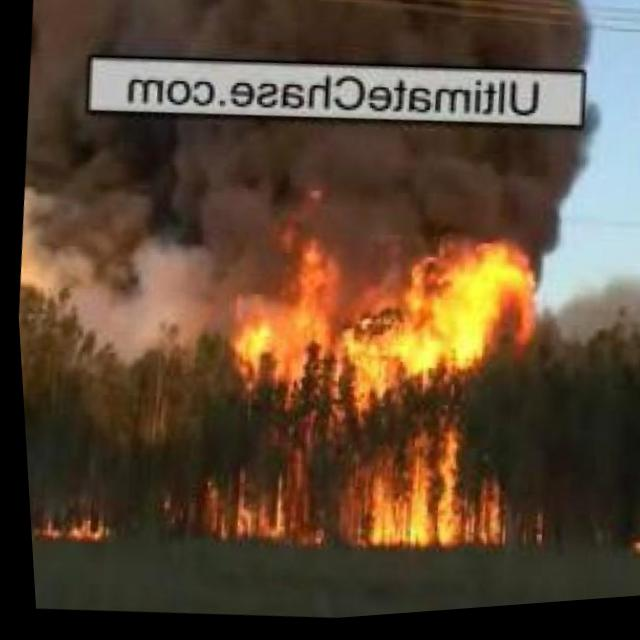Fire: (175, 213, 551, 575), (29, 497, 105, 548)
